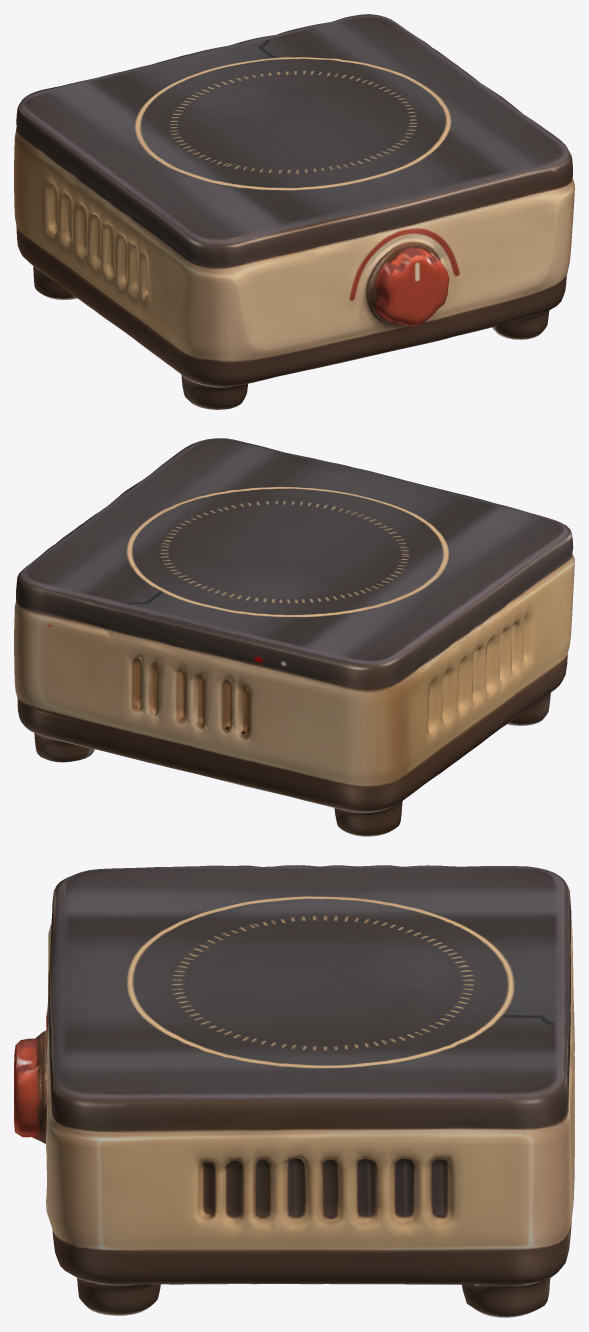
File: InductionB05AI.fbx
3 views of the same model, one above another, from view 1: azimuth 30°, elevation 25°; view 2: azimuth 150°, elevation 25°; view 3: azimuth 270°, elevation 25° (orthographic). The views are drawn at different scales.
Parts seen in each view (by area): view 1: Retopo_Mesh.001; view 2: Retopo_Mesh.001; view 3: Retopo_Mesh.001.
Boxes of the visible parts, x1=… form: Retopo_Mesh.001: x1=14, y1=14, x2=574, y2=409; Retopo_Mesh.001: x1=14, y1=438, x2=574, y2=836; Retopo_Mesh.001: x1=14, y1=865, x2=574, y2=1317.
Bounding box in the file's own units: 1 × 0.4568 × 1.
